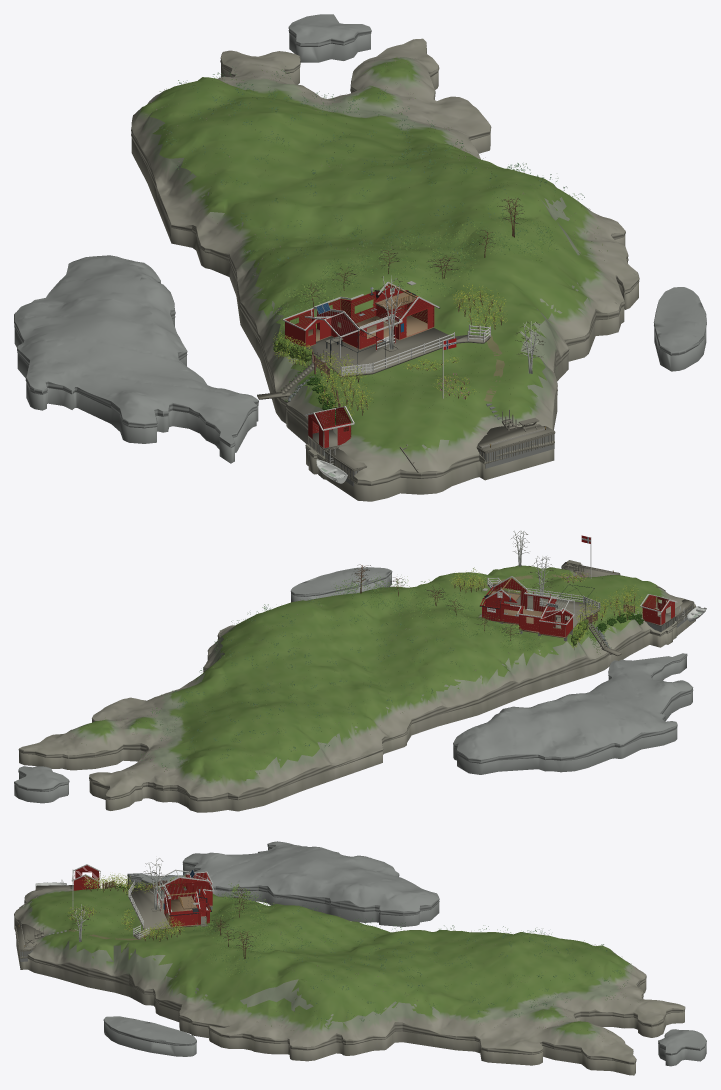
Rendered from island-realistic.glb.
3 views of the same model, one above another, from view 1: azimuth 30°, elevation 25°; view 2: azimuth 150°, elevation 25°; view 3: azimuth 270°, elevation 25° (orthographic). The views are drawn at different scales.
Parts seen in each view (by area): view 1: ground | tile 0,-2, ground | tile 0,-1, ground | tile -1,0, ground | tile 0,0, scenery | tile -2,-1, ground | tile 0,-3, scenery | tile -1,0, ground | tile -1,1, ground | tile -1,-1, ground | tile 1,-3, ground | tile 1,-1, ground | tile -1,-2 (+14 smaller); view 2: ground | tile 0,-3, ground | tile 0,-2, ground | tile 0,-1, ground | tile -1,-1, ground | tile -1,0, ground | tile 1,-3, scenery | tile -2,-1, scenery | tile -1,0, ground | tile -1,-2, ground | tile 1,-2, scenery | tile -1,-2, scenery | tile -2,-2 (+12 smaller); view 3: ground | tile 1,-1, ground | tile 0,0, ground | tile 1,-2, ground | tile 1,-3, ground | tile 0,-1, ground | tile 0,-3, ground | tile 0,-2, scenery | tile -1,-1, ground | tile -1,0, scenery | tile -1,-2, scenery | tile -2,-1, scenery | tile -1,0 (+12 smaller).
Part boxes in pixels (x1,y1,x2,y2): ground | tile 0,-2: (184,123,477,245); ground | tile 0,-1: (291,174,585,315); ground | tile -1,0: (257,315,505,491); ground | tile 0,0: (397,274,597,430); scenery | tile -2,-1: (17,299,213,439); ground | tile 0,-3: (131,64,371,189); scenery | tile -1,0: (211,275,499,475); ground | tile -1,1: (341,412,553,501); ground | tile -1,-1: (237,245,378,400); ground | tile 1,-3: (256,38,486,129); ground | tile 1,-1: (473,168,639,309); ground | tile -1,-2: (162,176,292,305); ground | tile 0,-3: (126,704,336,812); ground | tile 0,-2: (204,626,414,742); ground | tile 0,-1: (281,586,488,678); ground | tile -1,-1: (416,618,582,722); ground | tile -1,0: (504,572,692,678); ground | tile 1,-3: (18,701,203,774); scenery | tile -2,-1: (548,670,690,758); scenery | tile -1,0: (487,535,700,673); ground | tile -1,-2: (337,677,452,772); ground | tile 1,-2: (119,622,280,707); scenery | tile -1,-2: (386,679,547,774); scenery | tile -2,-2: (499,716,610,772); ground | tile 1,-1: (197,965,350,1061); ground | tile 0,0: (49,911,202,1021); ground | tile 1,-2: (343,971,498,1062); ground | tile 1,-3: (491,992,645,1075); ground | tile 0,-1: (195,911,350,999); ground | tile 0,-3: (491,932,644,1007); ground | tile 0,-2: (344,927,498,996); scenery | tile -1,-1: (182,869,350,923); ground | tile -1,0: (37,885,198,934); scenery | tile -1,-2: (340,870,439,929); scenery | tile -2,-1: (196,841,350,882); scenery | tile -1,0: (50,858,207,933).
Size of what is drawn, in the model's own units: 70.25 by 13.23 by 93.57.
